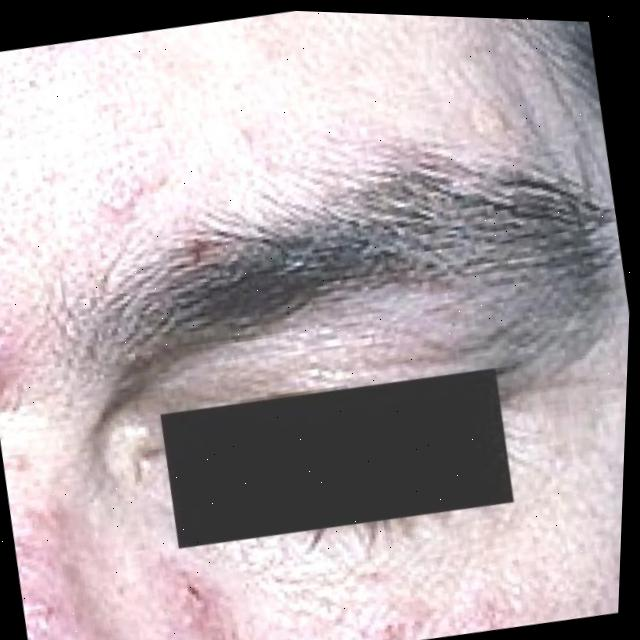Rosacea: (7, 514, 103, 640), (0, 321, 51, 445)
